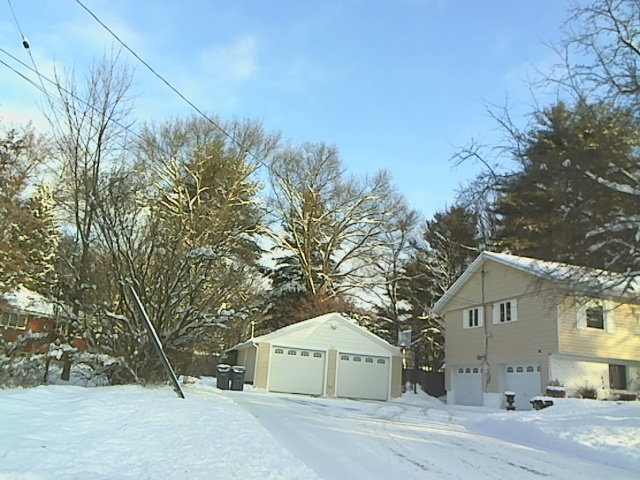Unploughed: (260, 383, 512, 465)
